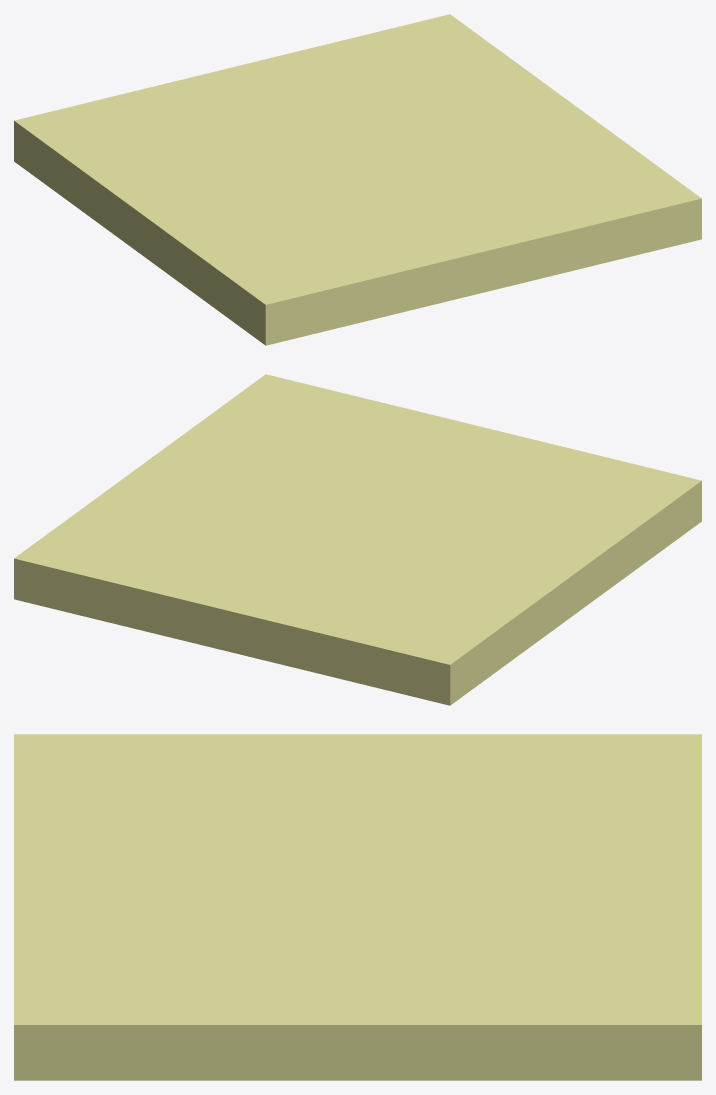
File: Pillow_Animation.glb
3 views of the same model, one above another, from view 1: azimuth 30°, elevation 25°; view 2: azimuth 150°, elevation 25°; view 3: azimuth 270°, elevation 25° (orthographic). The views are drawn at different scales.
Visible parts, largest first — view 1: Plane; view 2: Plane; view 3: Plane.
Part boxes in pixels (left/top/right/bottom): Plane: left=14, top=14, right=701, bottom=345; Plane: left=14, top=374, right=701, bottom=705; Plane: left=14, top=734, right=701, bottom=1080.
Size of the model in its own units: 2 by 0.1789 by 2.
